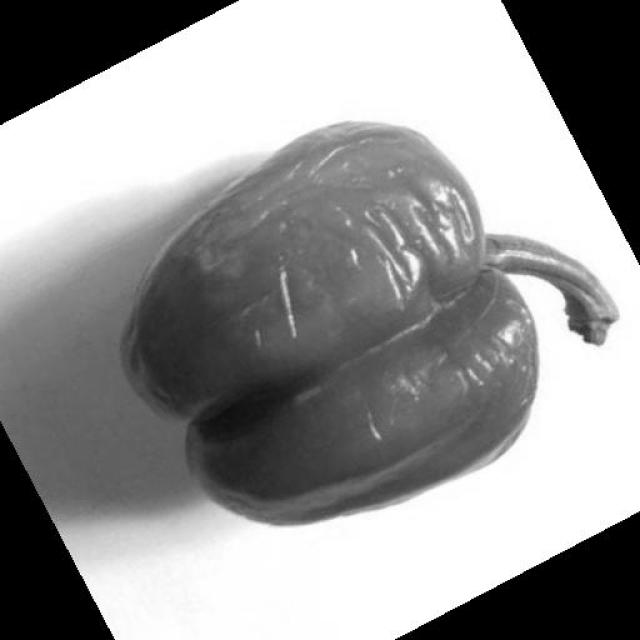Stale_Capsicum: (112, 132, 504, 524)
